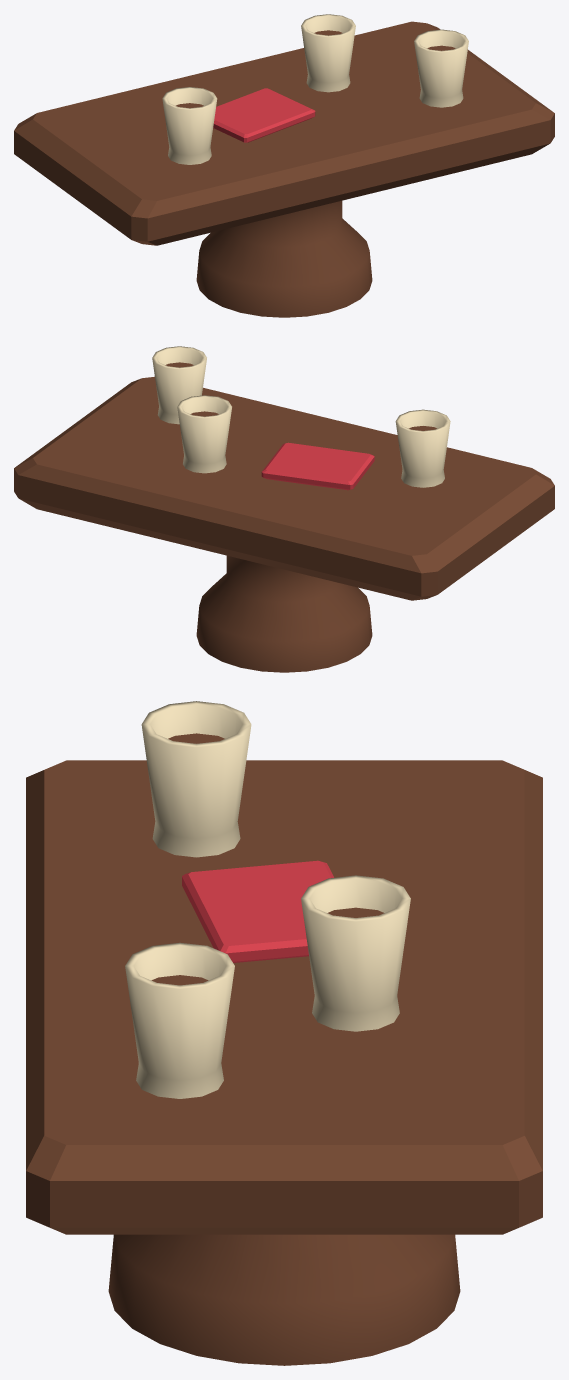
Rendered from table.glb.
The picture shows the model from 3 angles, top to bottom: view 1: azimuth 30°, elevation 25°; view 2: azimuth 150°, elevation 25°; view 3: azimuth 270°, elevation 25°; orthographic projection. The views are drawn at different scales.
Visible parts, largest first — view 1: table · Dark walnut.001, table · Dark walnut, table · Warm ivory, table · Scarlet piping; view 2: table · Dark walnut.001, table · Dark walnut, table · Warm ivory, table · Scarlet piping; view 3: table · Dark walnut.001, table · Dark walnut, table · Warm ivory, table · Scarlet piping.
Boxes of the visible parts, x1,y1,x2,y2 form: table · Dark walnut.001: [14, 21, 554, 245]; table · Dark walnut: [176, 30, 455, 317]; table · Warm ivory: [162, 14, 468, 164]; table · Scarlet piping: [213, 88, 315, 142]; table · Dark walnut.001: [14, 376, 554, 600]; table · Dark walnut: [165, 362, 436, 672]; table · Warm ivory: [152, 346, 450, 487]; table · Scarlet piping: [261, 442, 374, 490]; table · Dark walnut.001: [26, 760, 542, 1234]; table · Dark walnut: [108, 733, 460, 1365]; table · Warm ivory: [125, 701, 410, 1098]; table · Scarlet piping: [182, 860, 333, 962].
Size of the model in its own units: 1.78 by 0.91 by 0.94.
